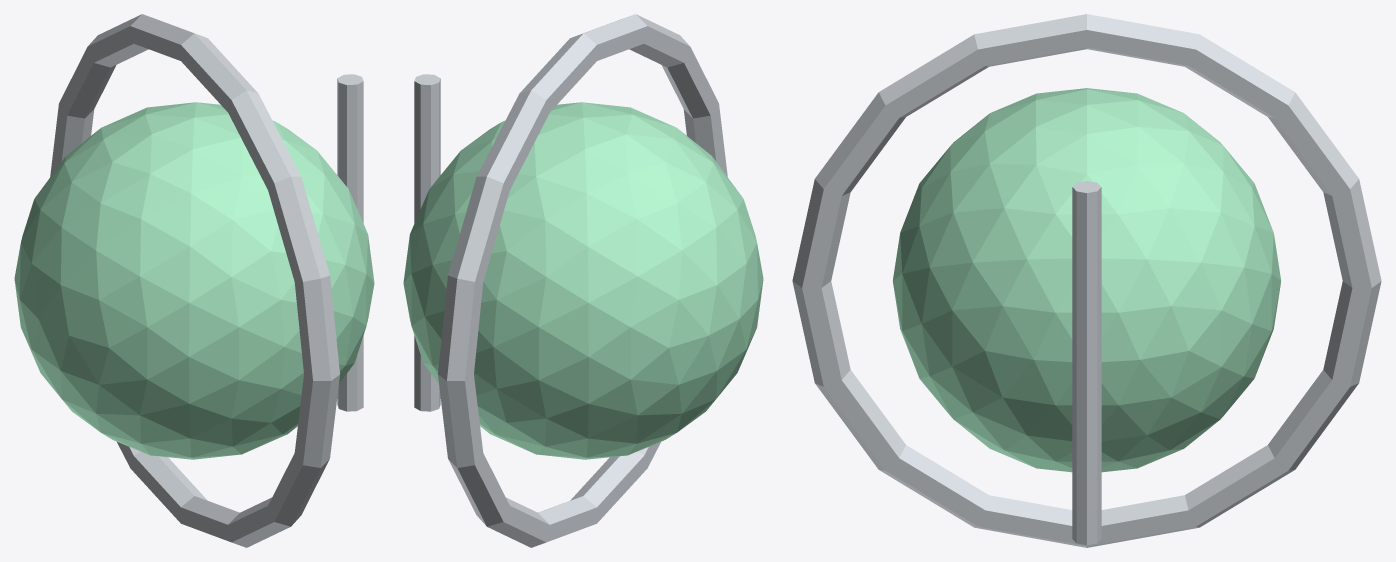
File: bateria_3.glb
3 renders of one model, left to right at view 1: azimuth 30°, elevation 25°; view 2: azimuth 150°, elevation 25°; view 3: azimuth 270°, elevation 25°, orthographic. The views are drawn at different scales.
Parts seen in each view (by area): view 1: nucleo, aro, jaula; view 2: nucleo, aro, jaula; view 3: nucleo, aro, jaula.
Part boxes in pixels (<box>): nucleo: <box>14,102,374,459</box>; aro: <box>50,14,339,547</box>; jaula: <box>337,74,363,411</box>; nucleo: <box>403,102,763,459</box>; aro: <box>438,14,727,547</box>; jaula: <box>414,74,440,411</box>; nucleo: <box>893,88,1280,472</box>; aro: <box>792,14,1381,547</box>; jaula: <box>1072,181,1101,545</box>.
Bounding box in the file's own units: 0.6157 × 0.9 × 0.9.
